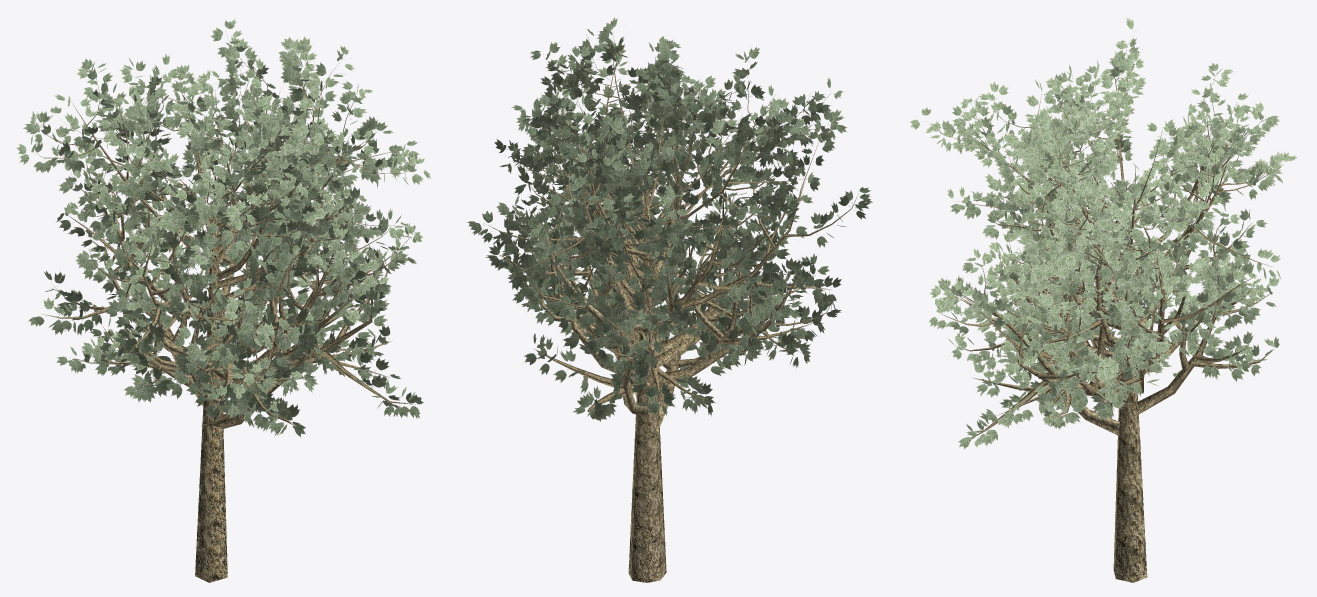
Rendered from MapleTree2.obj.
The picture shows the model from 3 angles, left to right: view 1: azimuth 30°, elevation 25°; view 2: azimuth 150°, elevation 25°; view 3: azimuth 270°, elevation 25°; orthographic projection. The views are drawn at different scales.
Parts seen in each view (by area): view 1: trunk; view 2: trunk; view 3: trunk.
Part boxes in pixels (left/top/right/bottom): trunk: left=16, top=19, right=431, bottom=582; trunk: left=467, top=17, right=872, bottom=582; trunk: left=909, top=17, right=1296, bottom=582.
Bounding box in the file's own units: 23.98 × 32.48 × 22.47.
Materials: 2 (2 with a texture image).
